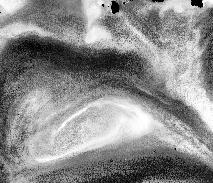CE: (6, 65, 159, 176)
